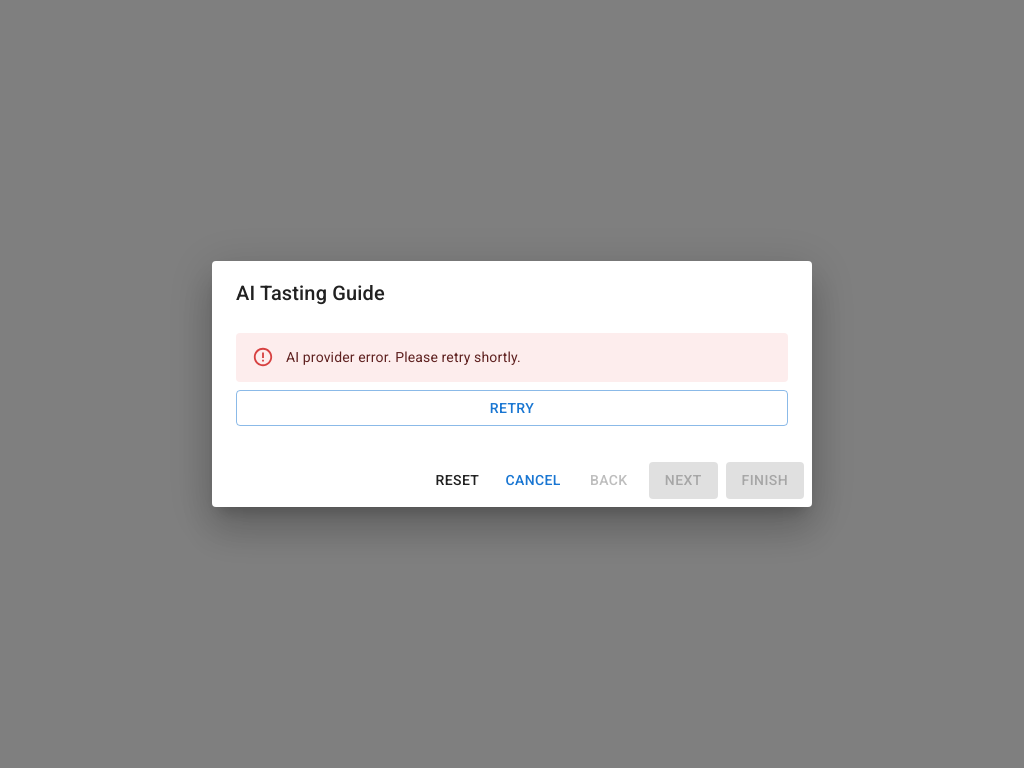
Test: AITastingAssistant › shows error and allows retry
expect the text "AI provider error. Please retry shortly." is shown: met, box [286,350,521,366]
Click the button with test id "ai-retry". click: [512, 408]
box: [236,390,788,426]
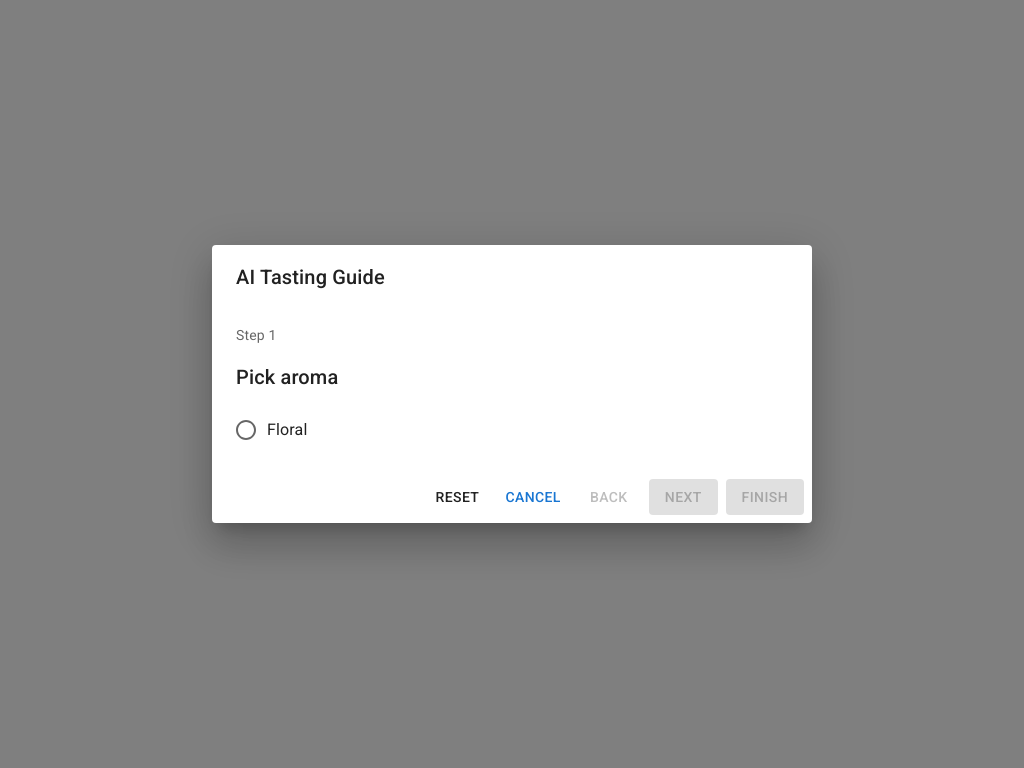
expect the heading with test id "ai-question" reads "Pick aroma": met, box [236,365,338,389]
